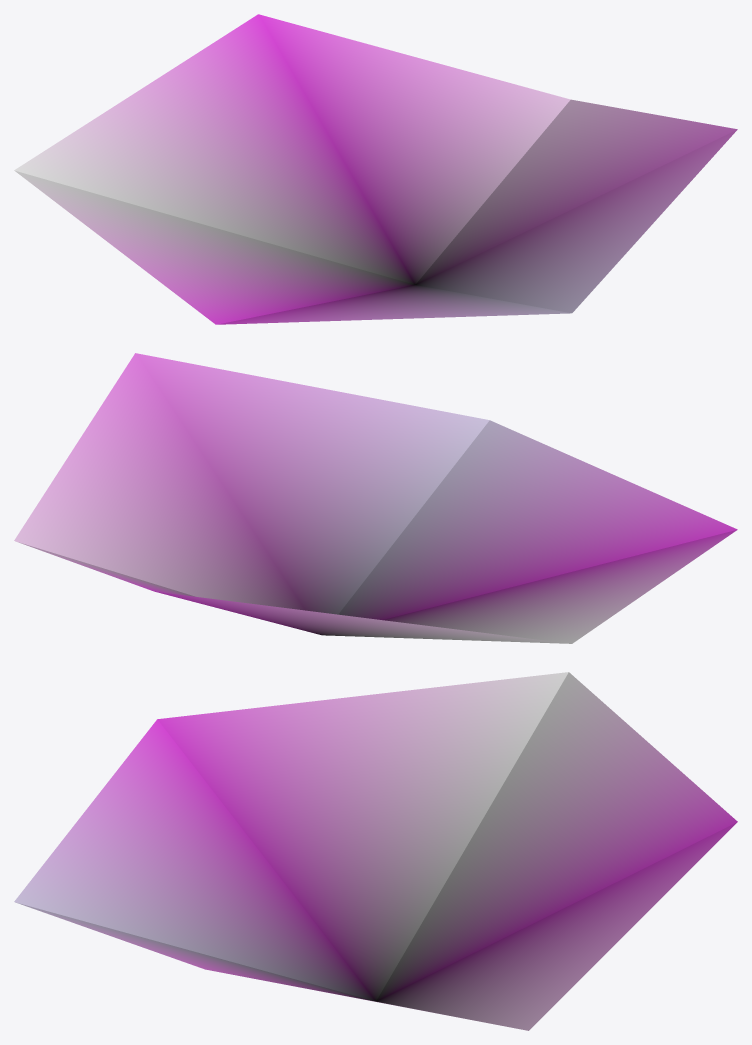
File: dandelion_01_leaf.dae
3 renders of one model, top to bottom at view 1: azimuth 30°, elevation 25°; view 2: azimuth 150°, elevation 25°; view 3: azimuth 270°, elevation 25°, orthographic. The views are drawn at different scales.
Parts seen in each view (by area): view 1: dandelion_leaf8; view 2: dandelion_leaf8; view 3: dandelion_leaf8.
Part boxes in pixels (left/top/right/bottom): dandelion_leaf8: left=14, top=14, right=737, bottom=324; dandelion_leaf8: left=14, top=353, right=737, bottom=643; dandelion_leaf8: left=14, top=672, right=737, bottom=1030.
Bounding box in the file's own units: 0.3132 × 0.3008 × 0.0824.
